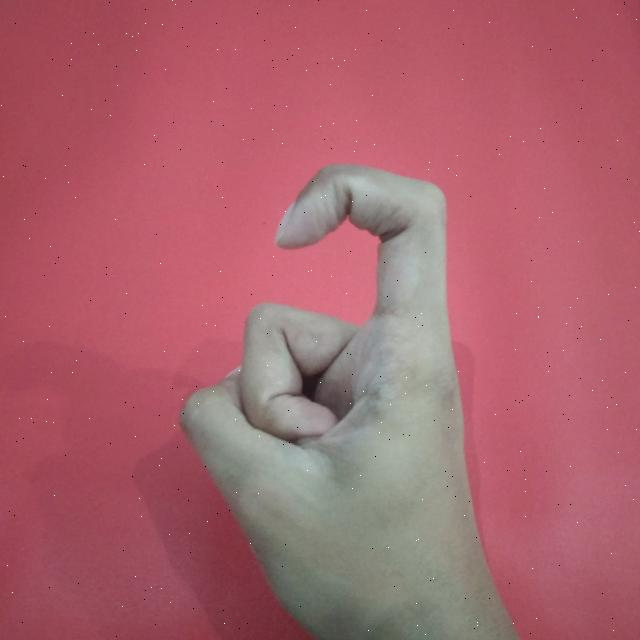X: (170, 157, 512, 640)
